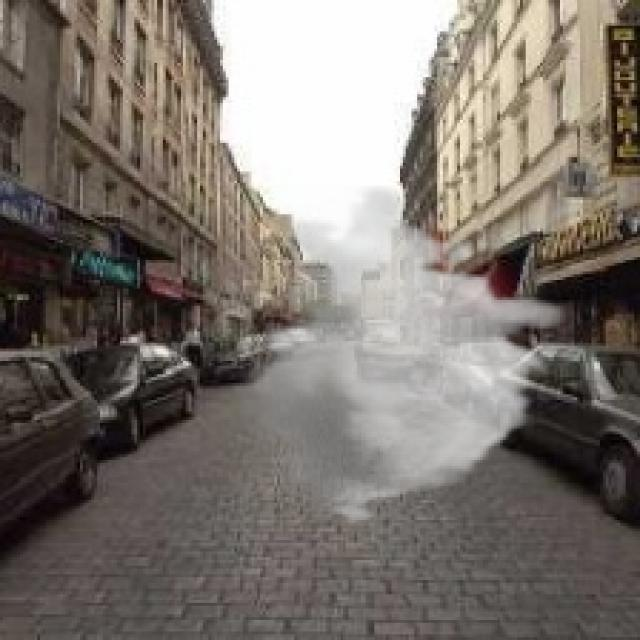smoke: (226, 186, 571, 528)
